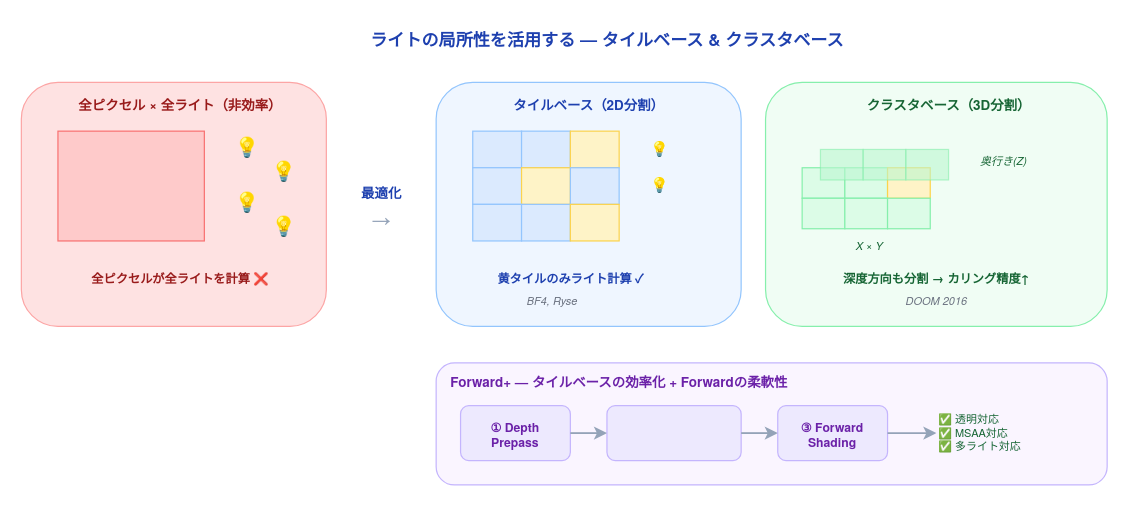
This 1129x506 diagram has some shape labels left out. The centre of each missing label's shape, as x and y in pixels:
② タイル別 ライトカリング: the point at 673,432
画面全体: the point at 130,185
